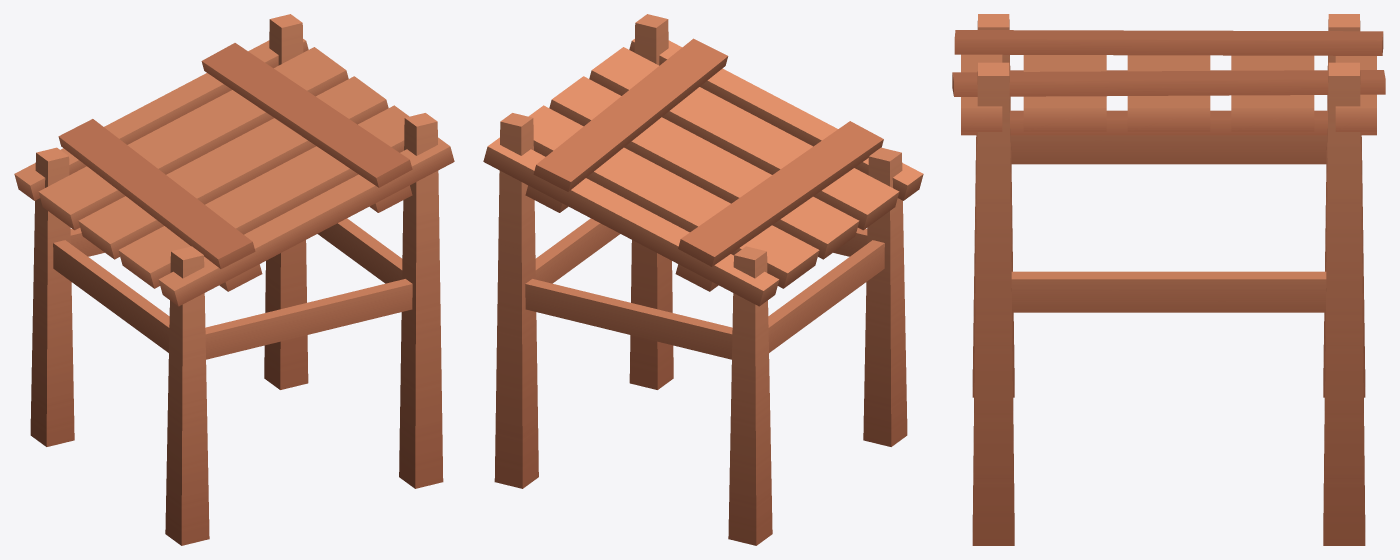
Rendered from structure-roof.obj.
3 renders of one model, left to right at view 1: azimuth 30°, elevation 25°; view 2: azimuth 150°, elevation 25°; view 3: azimuth 270°, elevation 25°, orthographic. The views are drawn at different scales.
Parts seen in each view (by area): view 1: Group, structure-roof; view 2: Group, structure-roof; view 3: structure-roof, Group.
Part boxes in pixels (x1,y1,x2,y2): Group: [14, 39, 454, 306]; structure-roof: [30, 14, 443, 545]; Group: [483, 38, 923, 306]; structure-roof: [494, 14, 907, 545]; structure-roof: [972, 14, 1365, 545]; Group: [952, 30, 1385, 135].
Bounding box in the file's own units: 0.5355 × 0.6572 × 0.5519.
1 material, 1 textured.
